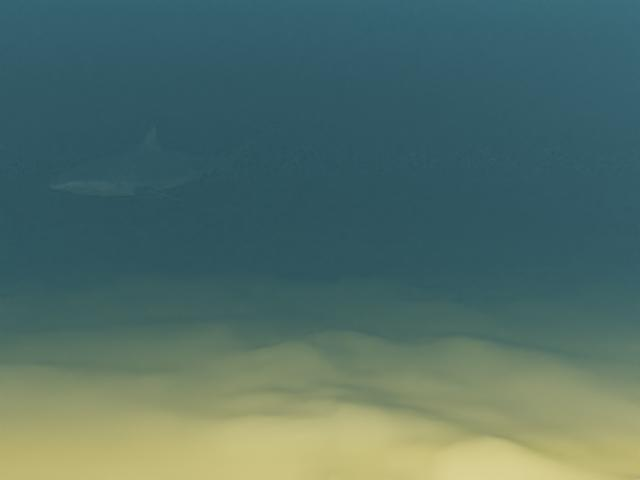Carribean Shark.001: (47, 121, 276, 202)
